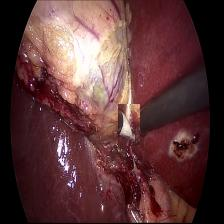Hook: (118, 104, 140, 146)
